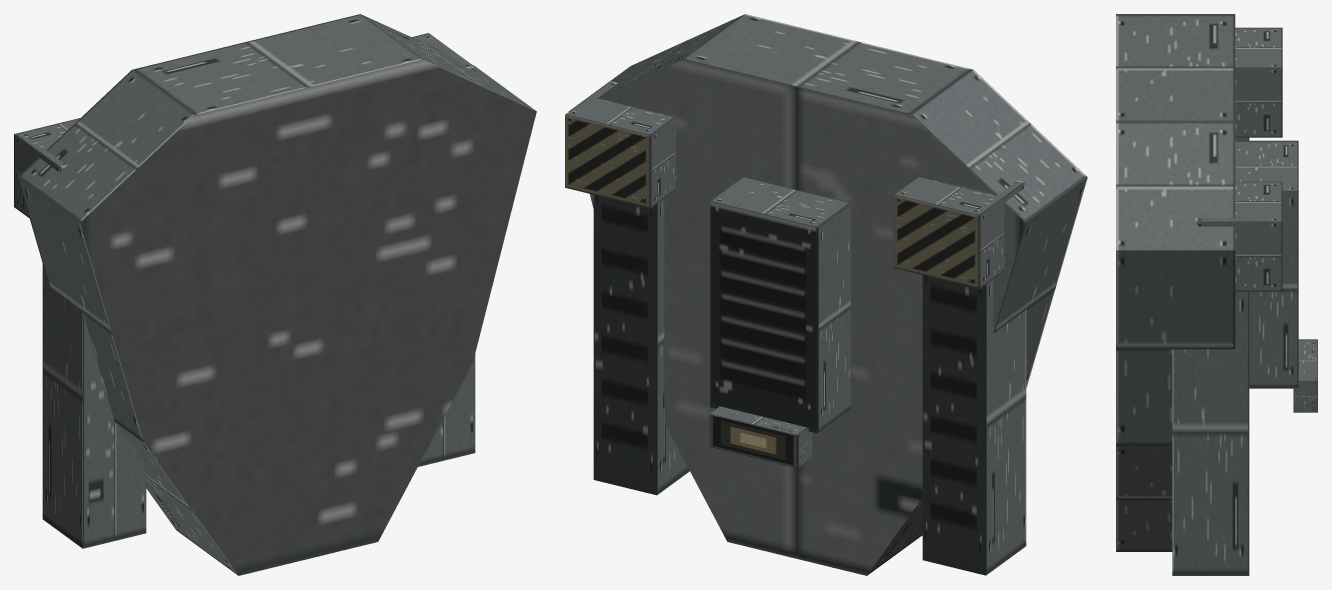
The model's file is Enemy_0.obj.
3 views of the same model, side by side, from view 1: azimuth 30°, elevation 25°; view 2: azimuth 150°, elevation 25°; view 3: azimuth 270°, elevation 25° (orthographic). The views are drawn at different scales.
Bounding box in the file's own units: 1.44 × 1.42 × 0.575.
1 material, 1 textured.
